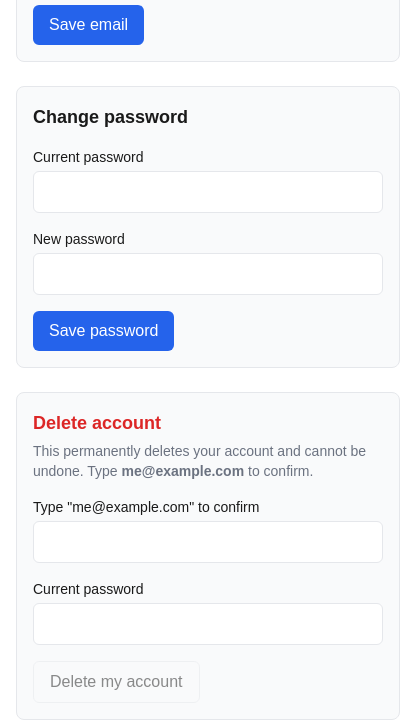
Scenario: SettingsPage › keeps the delete button disabled until the email is typed exactly
The image size is (417, 720).
(page scrolled)
Expected: the button "Delete my account" is disabled, left=33, top=661, right=200, bottom=703
Type "not-my-email@example.com" into the field labelled "Type \"me@example.com\" to confirm" at (208, 542), box left=33, top=521, right=383, bottom=563
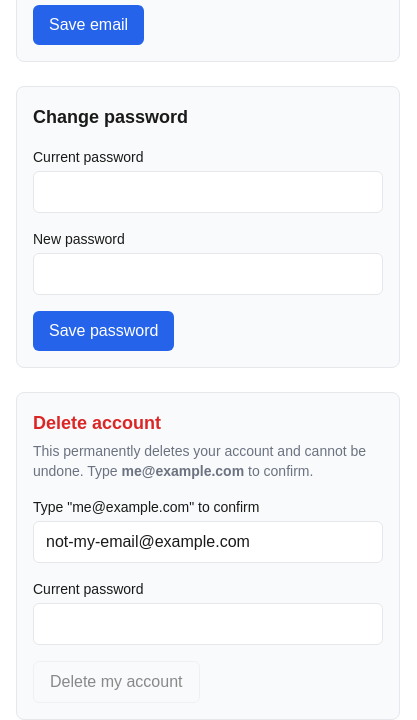
Expected: the button "Delete my account" is disabled, left=33, top=661, right=200, bottom=703
Replace the text in the field labelled "Type \"me@example.com\" to confirm" with "me@example.com" at (208, 542), box left=33, top=521, right=383, bottom=563
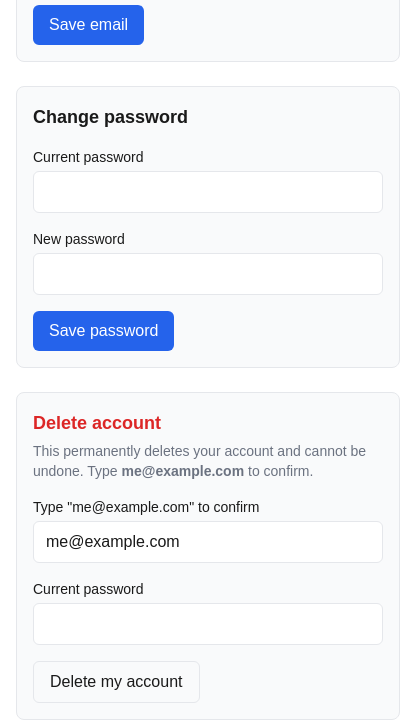
Result: the button "Delete my account" is enabled at left=33, top=661, right=200, bottom=703
